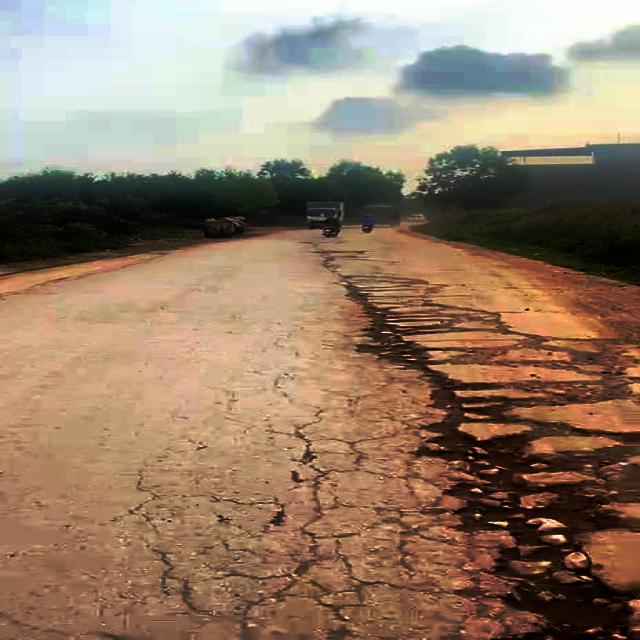pothole: (418, 414, 640, 640), (355, 306, 622, 412)
